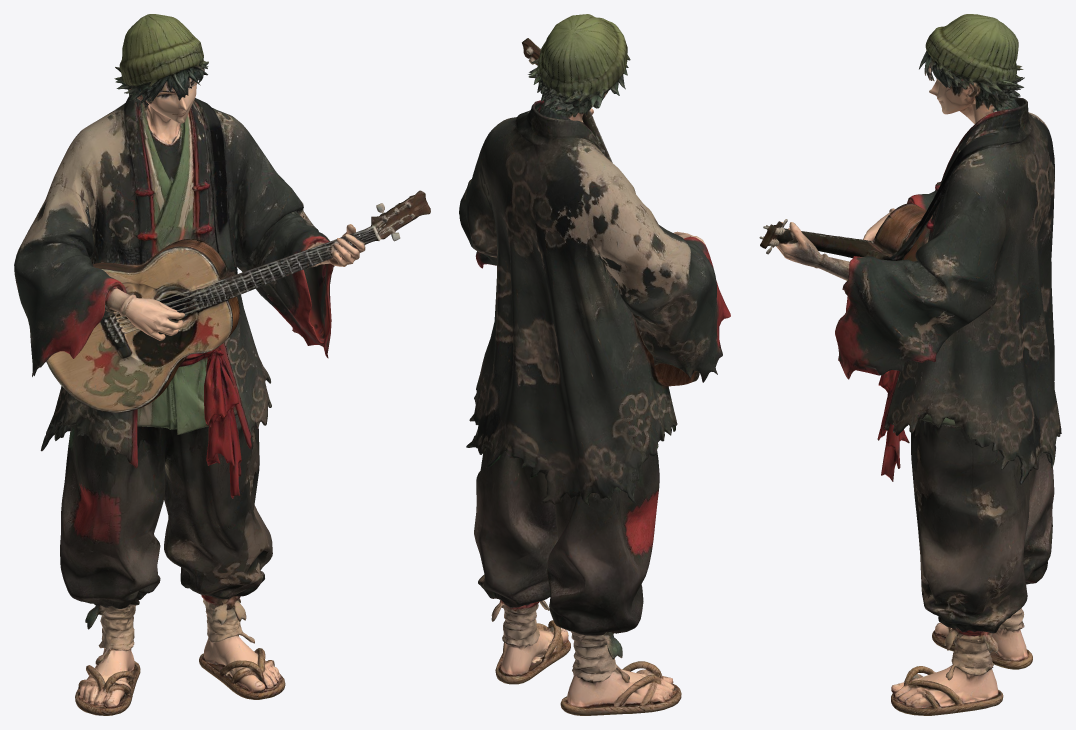
Rendered from ah_ming.glb.
3 views of the same model, side by side, from view 1: azimuth 30°, elevation 25°; view 2: azimuth 150°, elevation 25°; view 3: azimuth 270°, elevation 25° (orthographic). The views are drawn at different scales.
Visible parts, largest first — view 1: Mesh_0; view 2: Mesh_0; view 3: Mesh_0.
Part boxes in pixels (x1,y1,x2,y2): Mesh_0: (14,14,430,715); Mesh_0: (459,14,730,715); Mesh_0: (759,14,1061,715).
Bounding box in the file's own units: 0.7889 × 1.7 × 0.7112.
Materials: 1 (1 with a texture image).
